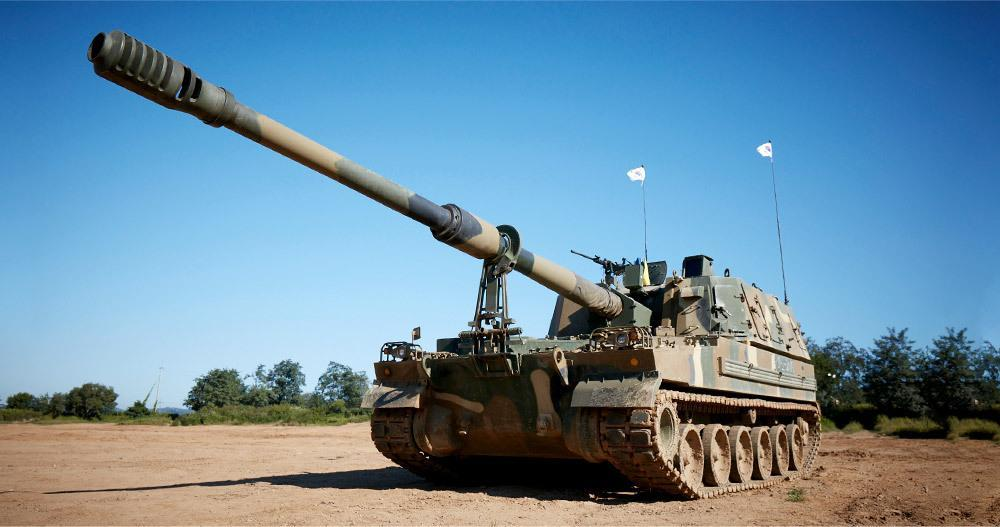MIL_IFV: (369, 242, 815, 499)
